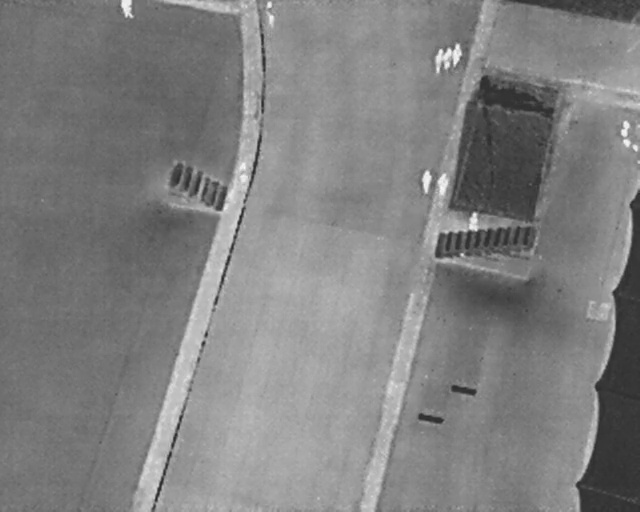Person: (420, 167, 432, 194), (452, 39, 463, 68), (265, 0, 276, 28), (442, 45, 453, 73), (438, 170, 448, 197), (469, 210, 479, 232), (435, 47, 443, 73), (121, 0, 131, 19), (239, 163, 248, 182)
